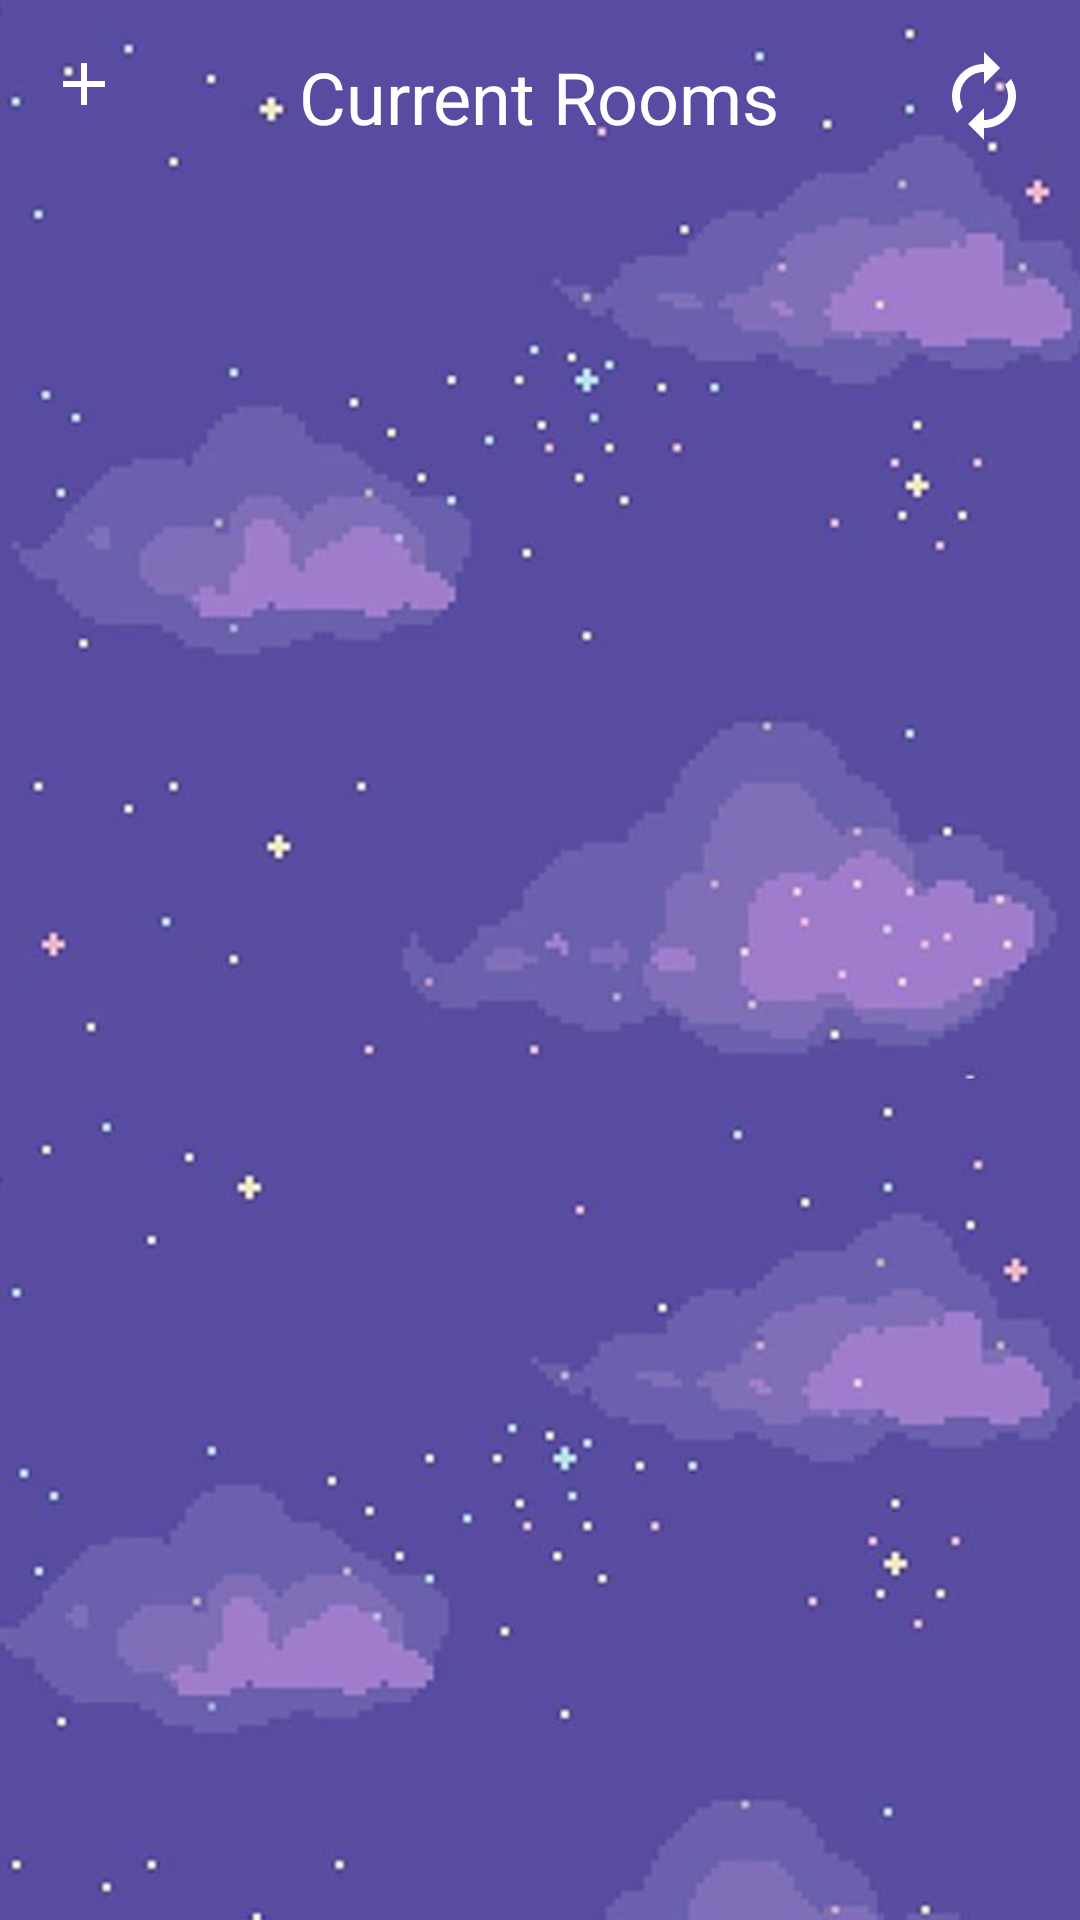

Icons on this 1080w x 1920h Android screen, each with its box as (x1, y1, x2, y2):
plus: (60, 63, 105, 105)
refresh: (939, 52, 1016, 140)
